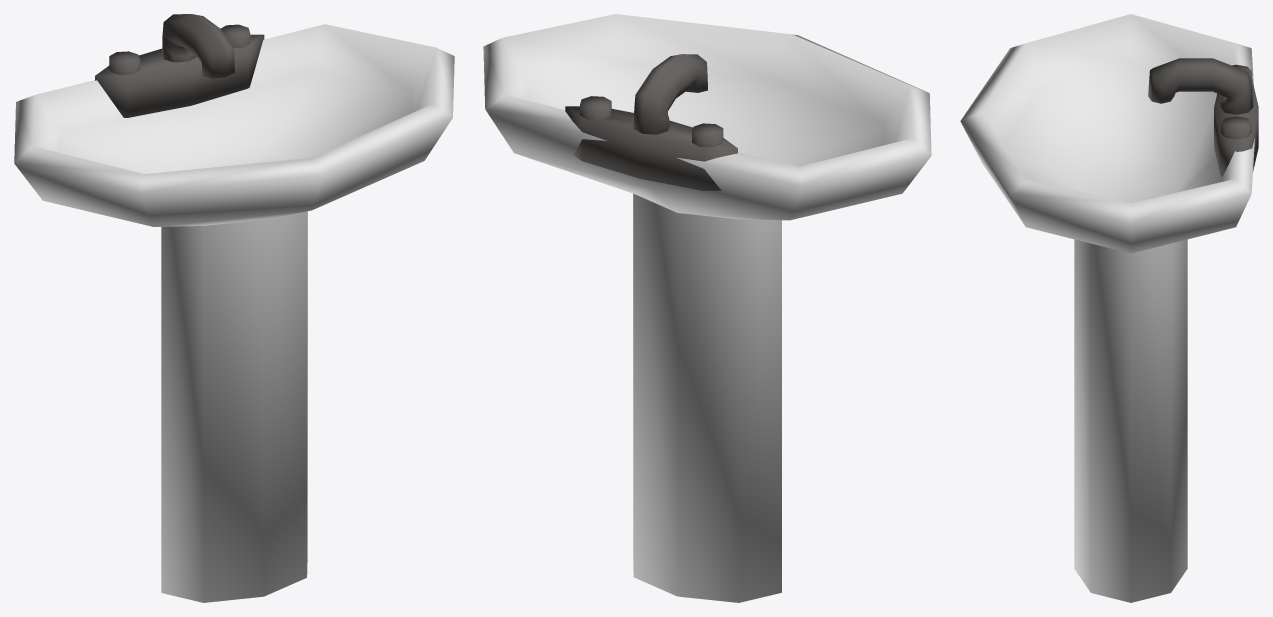
The model's file is sink.fbx.
The picture shows the model from 3 angles, left to right: view 1: azimuth 30°, elevation 25°; view 2: azimuth 150°, elevation 25°; view 3: azimuth 270°, elevation 25°; orthographic projection. The views are drawn at different scales.
Parts seen in each view (by area): view 1: sink, faucet; view 2: sink, faucet; view 3: sink, faucet.
Boxes of the visible parts, <box> form: sink: <box>14,24,454,602</box>; faucet: <box>95,14,264,117</box>; sink: <box>483,14,931,602</box>; faucet: <box>565,54,737,190</box>; sink: <box>960,14,1254,602</box>; faucet: <box>1148,58,1258,176</box>.
Bounding box in the file's own units: 88.57 × 102 × 54.05.
